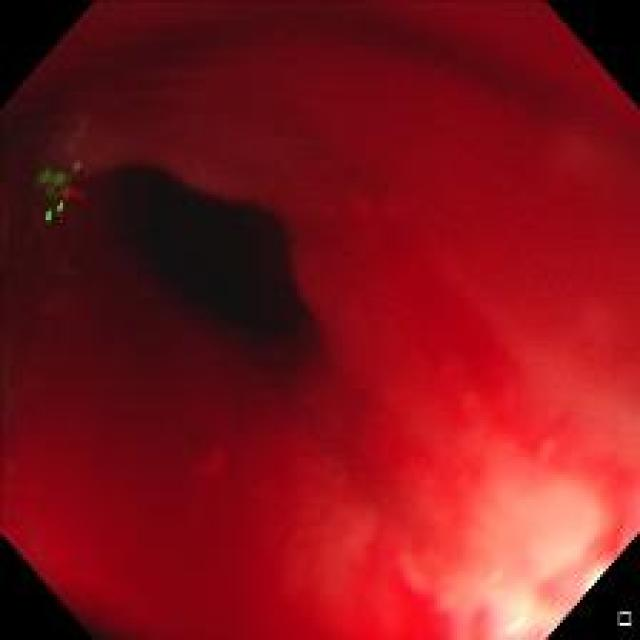bubbles: (171, 426, 232, 482)
color misalignment: (32, 144, 92, 236)
contrast: (44, 154, 391, 384)
